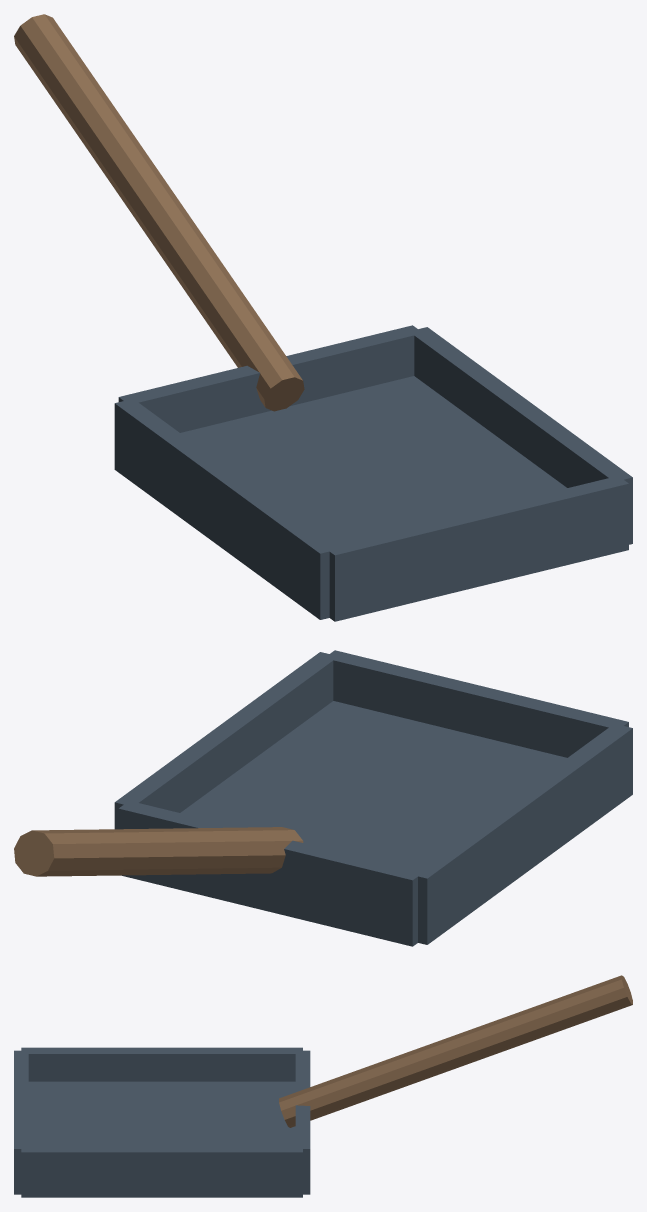
File: L-31_ash_scoop.glb
The picture shows the model from 3 angles, top to bottom: view 1: azimuth 30°, elevation 25°; view 2: azimuth 150°, elevation 25°; view 3: azimuth 270°, elevation 25°; orthographic projection. The views are drawn at different scales.
Visible parts, largest first — view 1: L-31_ash_scoop; view 2: L-31_ash_scoop; view 3: L-31_ash_scoop.
Boxes of the visible parts, bbox=[...] form: L-31_ash_scoop: bbox=[14, 14, 632, 621]; L-31_ash_scoop: bbox=[14, 650, 632, 946]; L-31_ash_scoop: bbox=[14, 975, 632, 1197].
Bounding box in the file's own units: 0.202 × 0.1515 × 0.5056.
